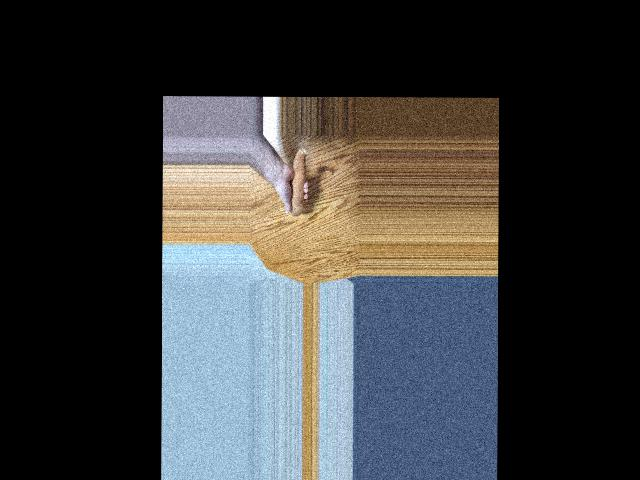sweet_potato: (285, 147, 305, 214)
